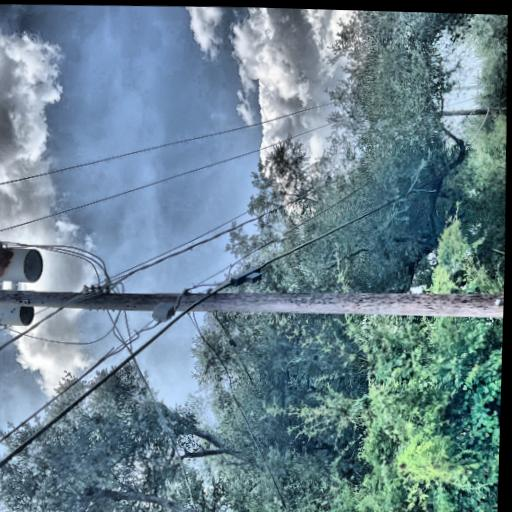insulator: (10, 10, 21, 22)
pole: (57, 5, 109, 512)
transformer: (100, 106, 137, 178), (61, 119, 87, 168)
